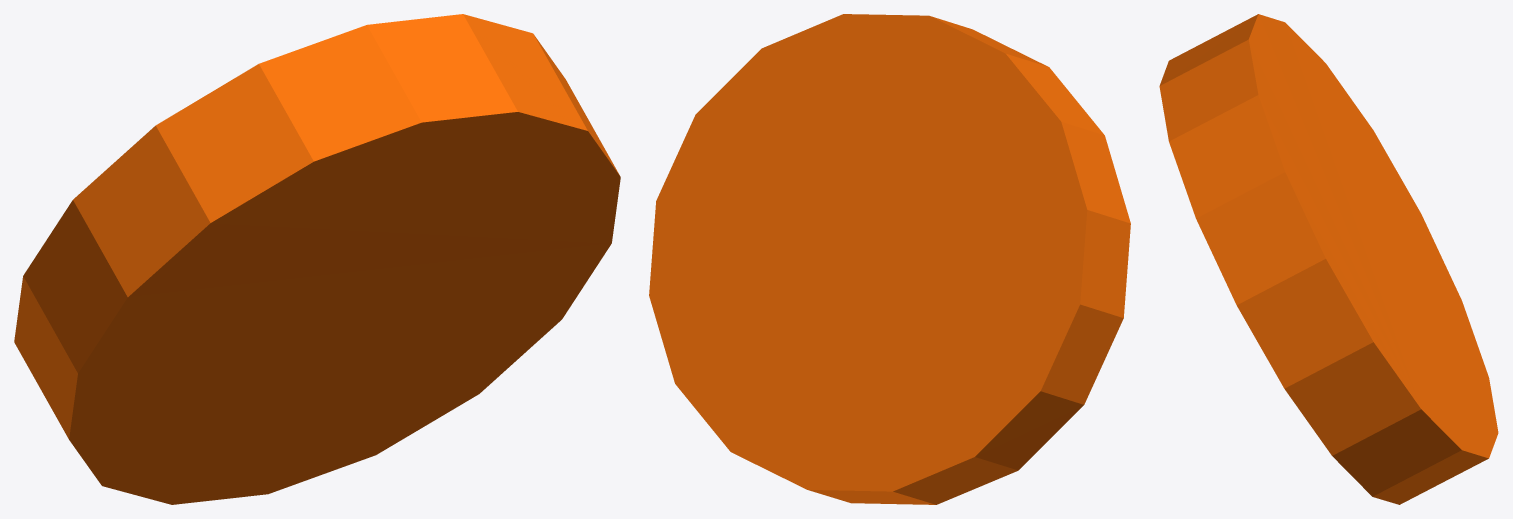
Rendered from dashboard_tire.obj.
The picture shows the model from 3 angles, left to right: view 1: azimuth 30°, elevation 25°; view 2: azimuth 150°, elevation 25°; view 3: azimuth 270°, elevation 25°; orthographic projection. The views are drawn at different scales.
Parts seen in each view (by area): view 1: dashboard_tire; view 2: dashboard_tire; view 3: dashboard_tire.
Part boxes in pixels (<box>): dashboard_tire: <box>14,14,620,504</box>; dashboard_tire: <box>649,14,1130,504</box>; dashboard_tire: <box>1159,14,1498,504</box>.
Size of the model in its own units: 0.017 by 0.0165 by 0.0115.
